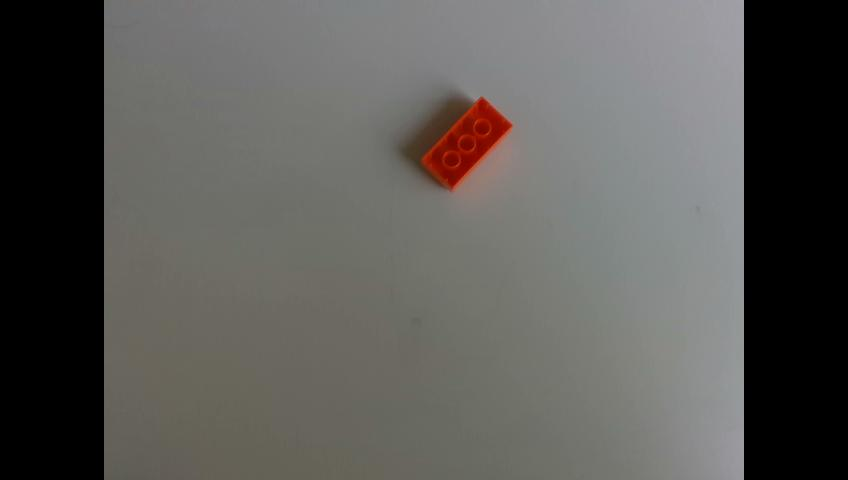4x2_orange: (420, 96, 512, 192)
